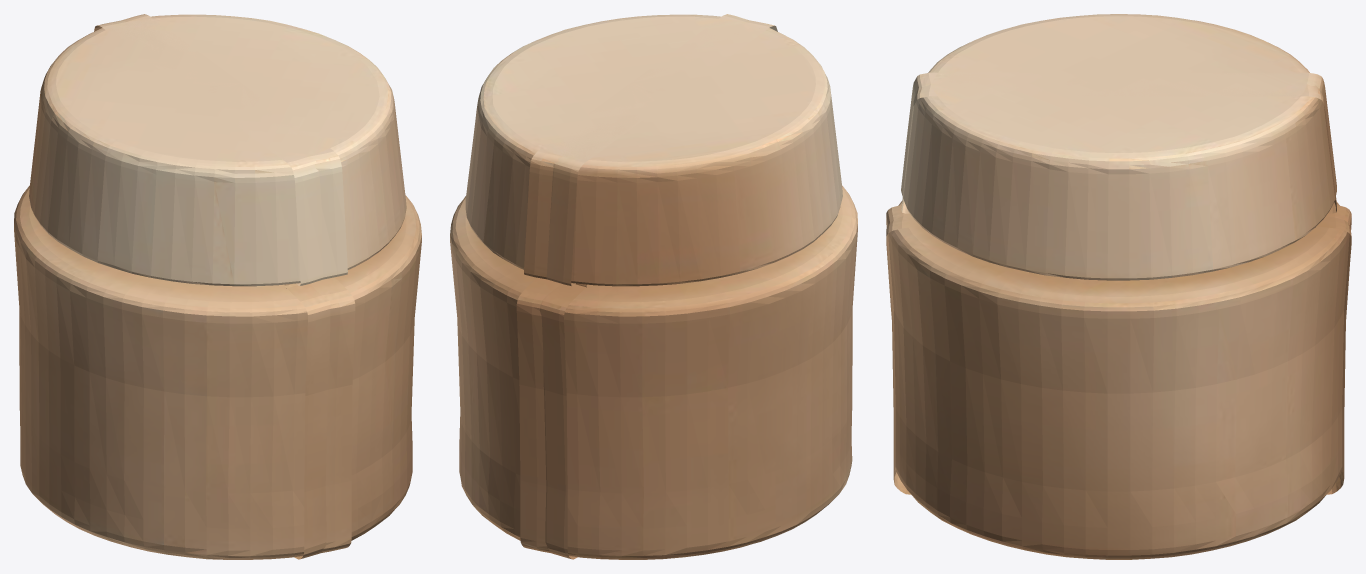
File: jar-cut.glb
The picture shows the model from 3 angles, left to right: view 1: azimuth 30°, elevation 25°; view 2: azimuth 150°, elevation 25°; view 3: azimuth 270°, elevation 25°; orthographic projection. The views are drawn at different scales.
Parts seen in each view (by area): view 1: jar_tripo_node_5b5c88b7-3ee2-42d5-80a9-fb1904749edd_right, jar_tripo_node_5b5c88b7-3ee2-42d5-80a9-fb1904749edd_left; view 2: jar_tripo_node_5b5c88b7-3ee2-42d5-80a9-fb1904749edd_right, jar_tripo_node_5b5c88b7-3ee2-42d5-80a9-fb1904749edd_left; view 3: jar_tripo_node_5b5c88b7-3ee2-42d5-80a9-fb1904749edd_left, jar_tripo_node_5b5c88b7-3ee2-42d5-80a9-fb1904749edd_right.
Boxes of the visible parts, x1,y1,x2,y2 form: jar_tripo_node_5b5c88b7-3ee2-42d5-80a9-fb1904749edd_right: (14, 14, 355, 559); jar_tripo_node_5b5c88b7-3ee2-42d5-80a9-fb1904749edd_left: (94, 14, 421, 559); jar_tripo_node_5b5c88b7-3ee2-42d5-80a9-fb1904749edd_right: (516, 14, 857, 559); jar_tripo_node_5b5c88b7-3ee2-42d5-80a9-fb1904749edd_left: (450, 14, 777, 559); jar_tripo_node_5b5c88b7-3ee2-42d5-80a9-fb1904749edd_left: (886, 72, 1351, 559); jar_tripo_node_5b5c88b7-3ee2-42d5-80a9-fb1904749edd_right: (886, 14, 1351, 494).
Size of the model in its own units: 0.878 by 0.9434 by 0.998.
Materials: 2 (1 with a texture image).
